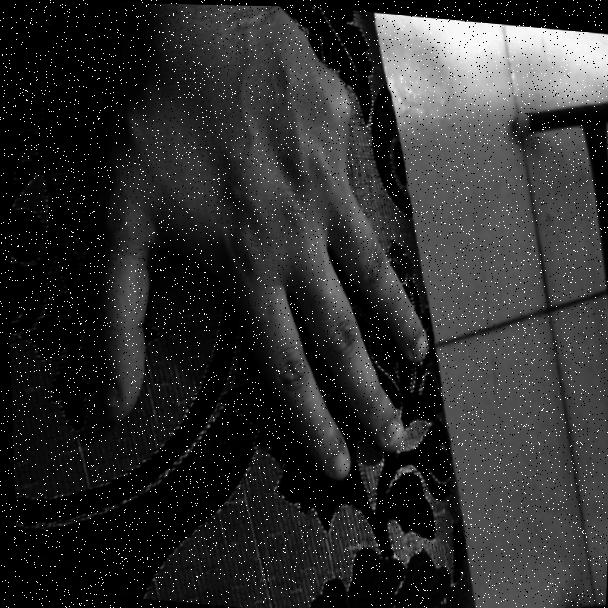five: (82, 17, 457, 485)
